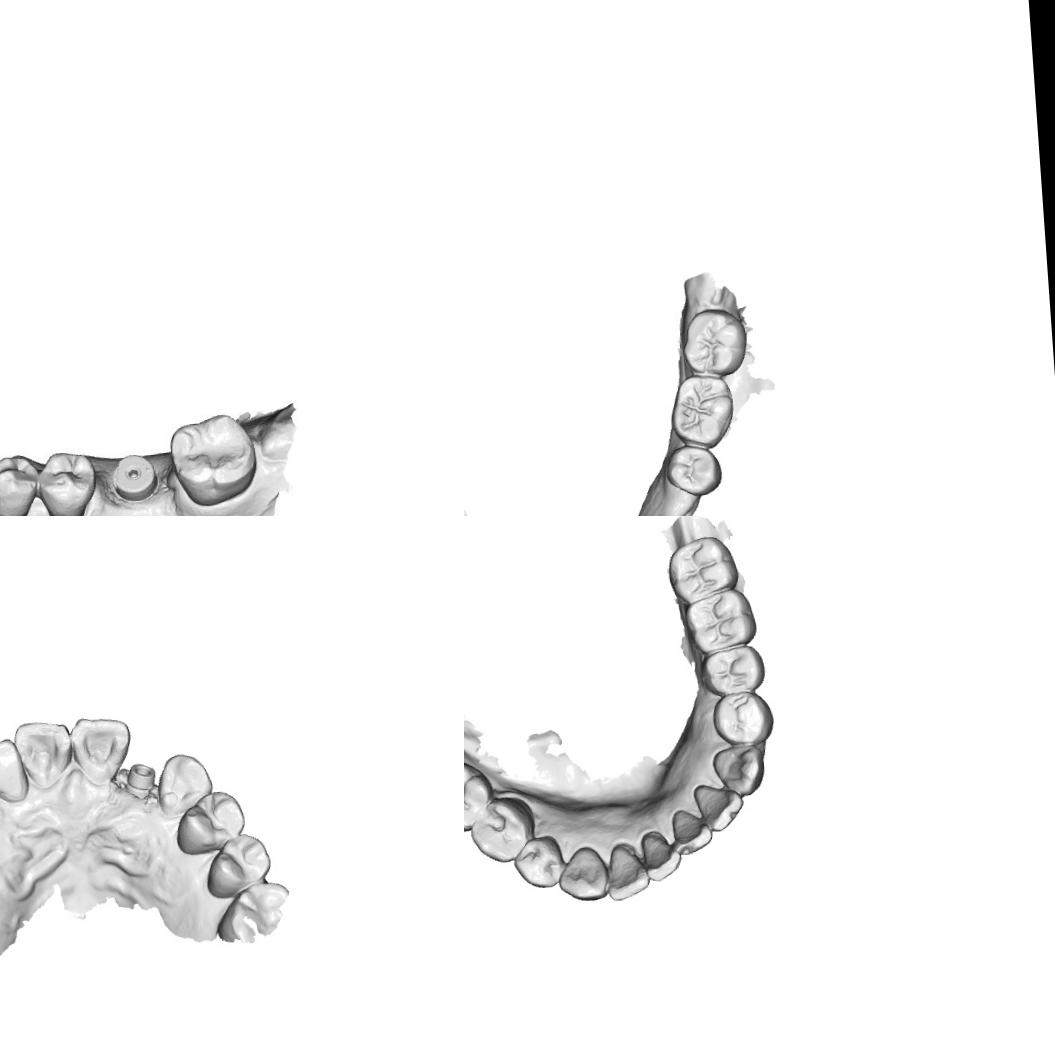canine: (154, 748, 214, 815), (711, 742, 766, 798), (556, 846, 606, 902)
implant: (110, 450, 160, 504), (124, 760, 157, 796)
incisor: (66, 712, 137, 793), (13, 718, 75, 802), (692, 779, 746, 834), (604, 842, 651, 902), (638, 828, 684, 883), (0, 735, 32, 807), (669, 808, 714, 856)
molar: (167, 413, 254, 500), (212, 876, 298, 944), (666, 372, 737, 448), (678, 303, 748, 376), (683, 588, 756, 656), (667, 534, 737, 604), (464, 758, 491, 834)
premolar: (171, 786, 249, 860), (202, 831, 274, 900), (468, 793, 536, 864), (37, 447, 96, 516), (712, 688, 774, 748), (662, 442, 724, 499), (701, 645, 766, 695), (512, 836, 568, 894), (0, 450, 45, 516)
